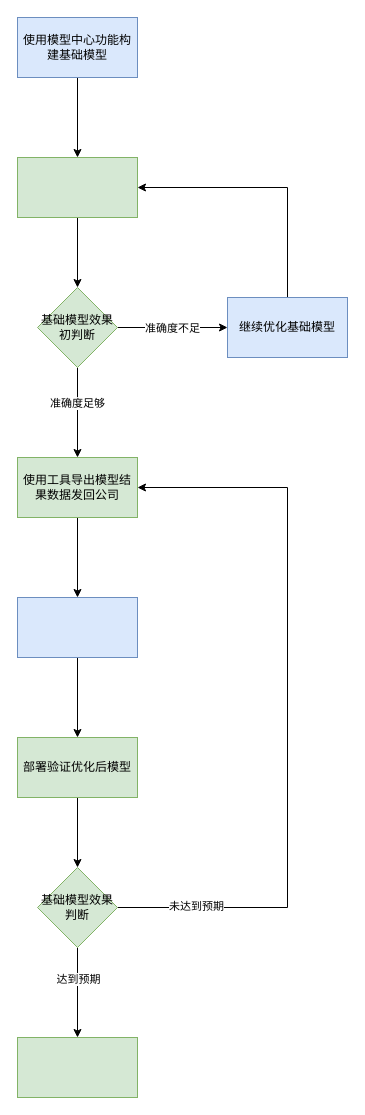
This 365x1115 diagram has some shape labels left out. Here are the shapes that lost their labels. From the top down, the centre of each, then its label:
At point (77, 187): "部署验证基础模型".
At point (77, 627): "基于现场样本对关键词模型深度调优".
At point (77, 1067): "完成发布".
